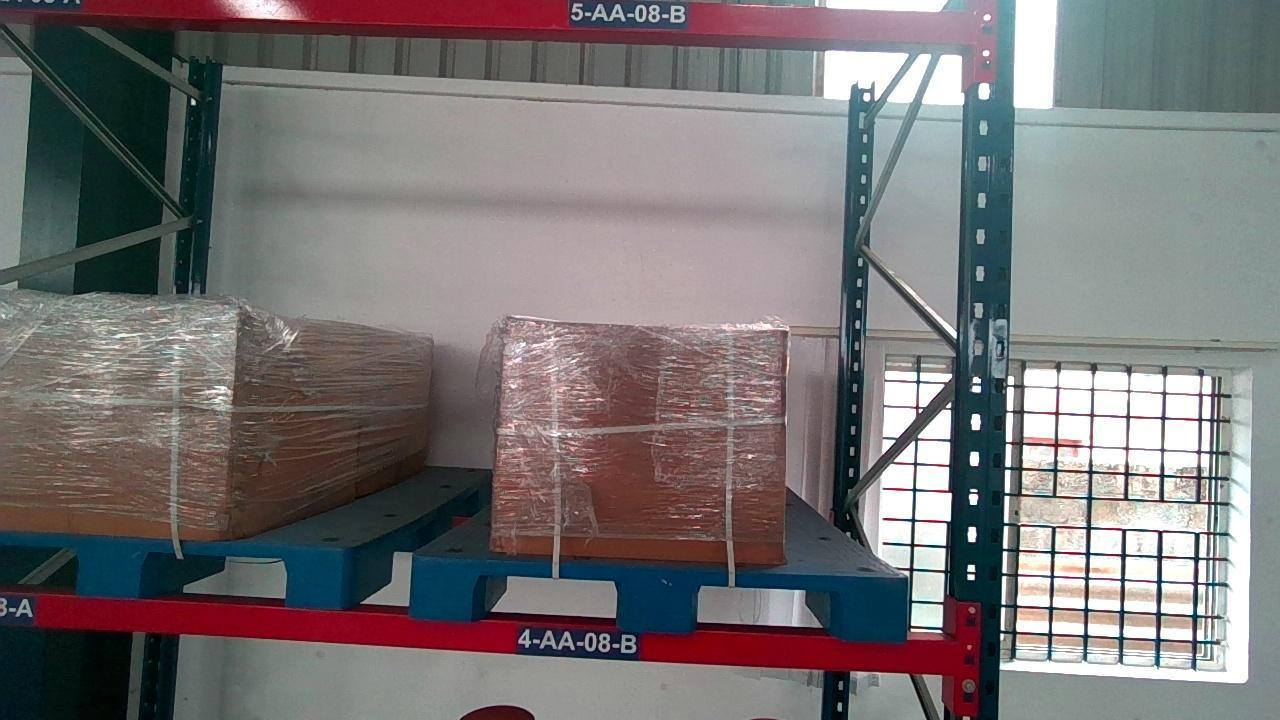h_rack: (0, 601, 960, 678)
small_pallet: (409, 557, 909, 633), (0, 530, 349, 607)
